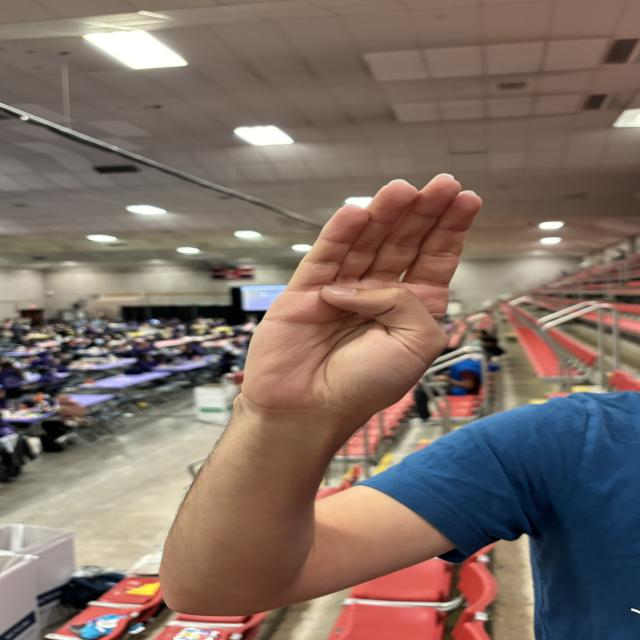B: (220, 167, 496, 424)
